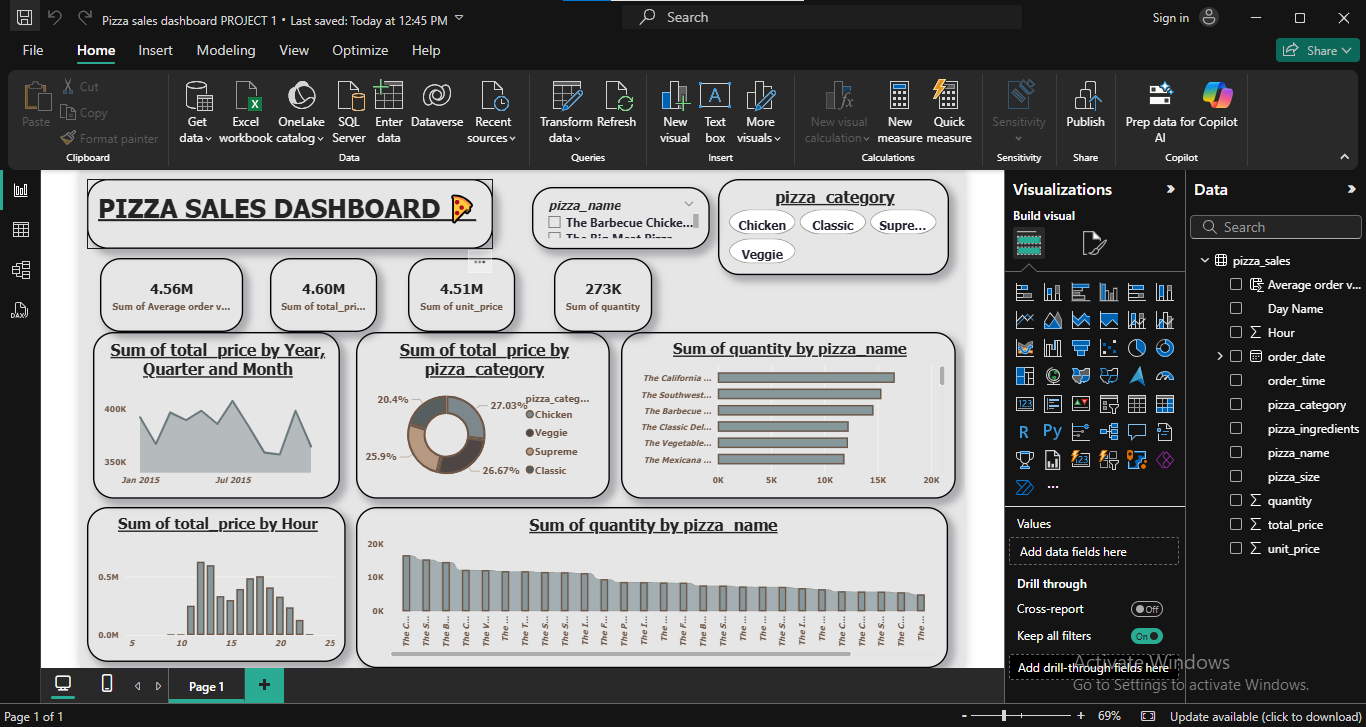

This screenshot's page, from the dashboard's own definition file:
{"tool":"powerbi","page":{"name":"Page 1","canvas":[1280,720],"ordinal":0},"visuals":[{"type":"lineChart","fields":{"Category":["pizza_sales.order_date.Variation.Date Hierarchy.Year","pizza_sales.order_date.Variation.Date Hierarchy.Quarter","pizza_sales.order_date.Variation.Date Hierarchy.Month"],"Y":["Sum(pizza_sales.total_price)"]},"box":[18.8,234.2,357.1,241.4],"z":0},{"type":"columnChart","fields":{"Category":["pizza_sales.Hour"],"Y":["Sum(pizza_sales.total_price)"]},"box":[10.1,487.2,374.5,224.1],"z":1000},{"type":"barChart","fields":{"Category":["pizza_sales.pizza_name"],"Y":["Sum(pizza_sales.quantity)"]},"box":[782.2,234.2,484.3,241.4],"z":2000},{"type":"donutChart","fields":{"Category":["pizza_sales.pizza_category"],"Y":["Sum(pizza_sales.total_price)"]},"box":[399,234.2,367.2,241.4],"z":3000},{"type":"ribbonChart","fields":{"Category":["pizza_sales.pizza_name"],"Y":["Sum(pizza_sales.quantity)"]},"box":[399,487.2,855.9,232.8],"z":4000},{"type":"card","fields":{"Values":["Sum(pizza_sales.quantity)"]},"box":[685.3,127.2,141.7,107],"z":5000},{"type":"card","fields":{"Values":["Sum(pizza_sales.total_price)"]},"box":[274.7,127.2,154.7,107],"z":6000},{"type":"card","fields":{"Values":["Sum(pizza_sales.unit_price)"]},"box":[474.2,127.2,154.7,107],"z":7000},{"type":"card","fields":{"Values":["Sum(pizza_sales.Average order value)"]},"box":[28.9,127.2,206.7,107],"z":8000},{"type":"advancedSlicerVisual","fields":{"Values":["pizza_sales.pizza_category"]},"box":[922.4,13,334,138.8],"z":9000},{"type":"textbox","box":[10.1,13,587,101.2],"z":10000},{"type":"slicer","fields":{"Values":["pizza_sales.pizza_name"]},"box":[653.5,24.6,257.3,89.6],"z":11000}]}

Visuals, with their boxes on the page's 1280x720 design canvas (x1, y1, x2, y2). These are canvas units, not pixel positions in the 1366x727 screenshot, which may show the page scaled, cropped or inside an application window:
lineChart - pizza_sales.order_date.Variation.Date Hierarchy.Year x pizza_sales.order_date.Variation.Date Hierarchy.Quarter: 19/234/376/476
columnChart - pizza_sales.Hour x Sum(pizza_sales.total_price): 10/487/385/711
barChart - pizza_sales.pizza_name x Sum(pizza_sales.quantity): 782/234/1266/476
donutChart - pizza_sales.pizza_category x Sum(pizza_sales.total_price): 399/234/766/476
ribbonChart - pizza_sales.pizza_name x Sum(pizza_sales.quantity): 399/487/1255/720
card - Sum(pizza_sales.quantity): 685/127/827/234
card - Sum(pizza_sales.total_price): 275/127/429/234
card - Sum(pizza_sales.unit_price): 474/127/629/234
card - Sum(pizza_sales.Average order value): 29/127/236/234
advancedSlicerVisual - pizza_sales.pizza_category: 922/13/1256/152
textbox: 10/13/597/114
slicer - pizza_sales.pizza_name: 654/25/911/114
